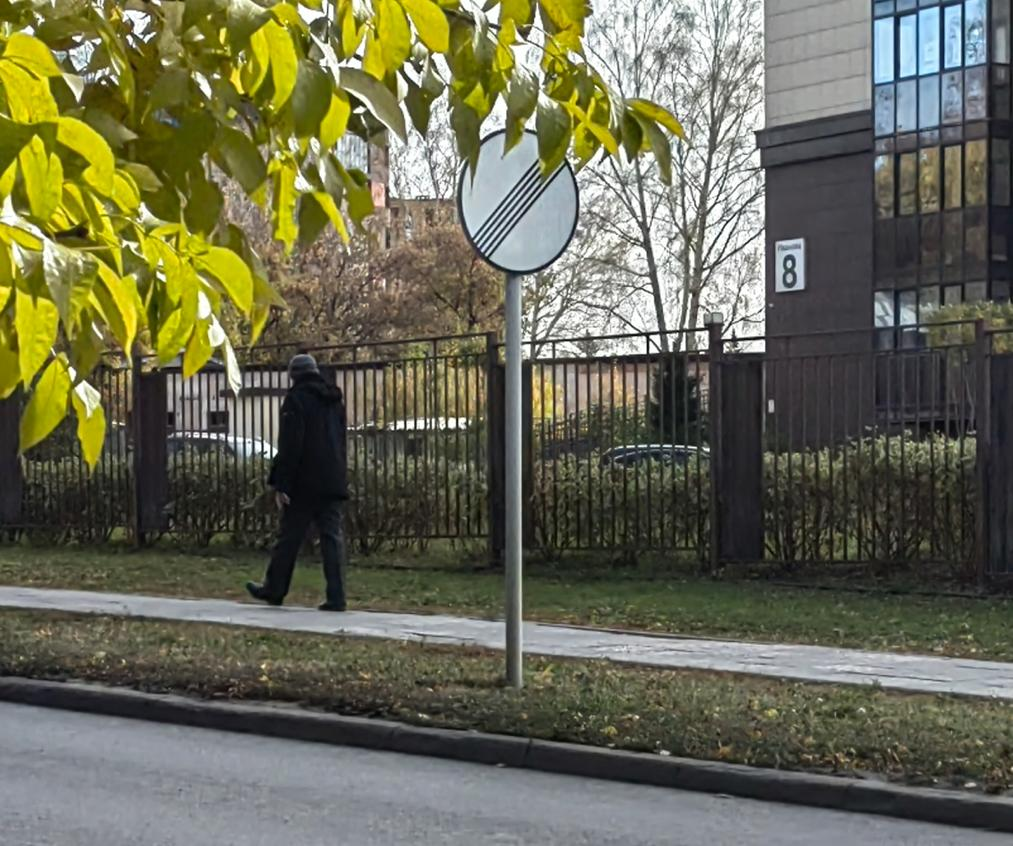road_sign: (457, 129, 578, 274)
